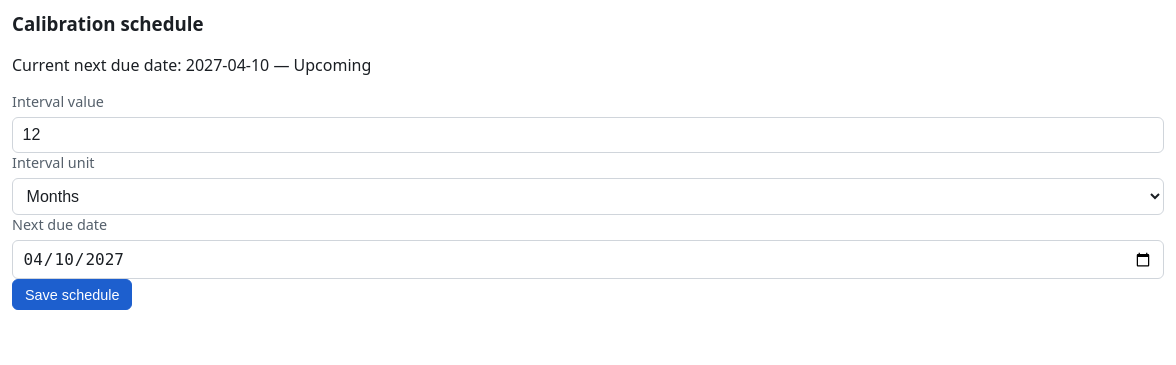
Test: CalibrationSchedulePanel › rejects clearing an existing due date rather than pretending to persist it
Expected: the text "2027-04-10" is shown, [186,54,269,76]
Clear the date field labelled "Next due date" at point(588, 260), box [12,240,1164,279]
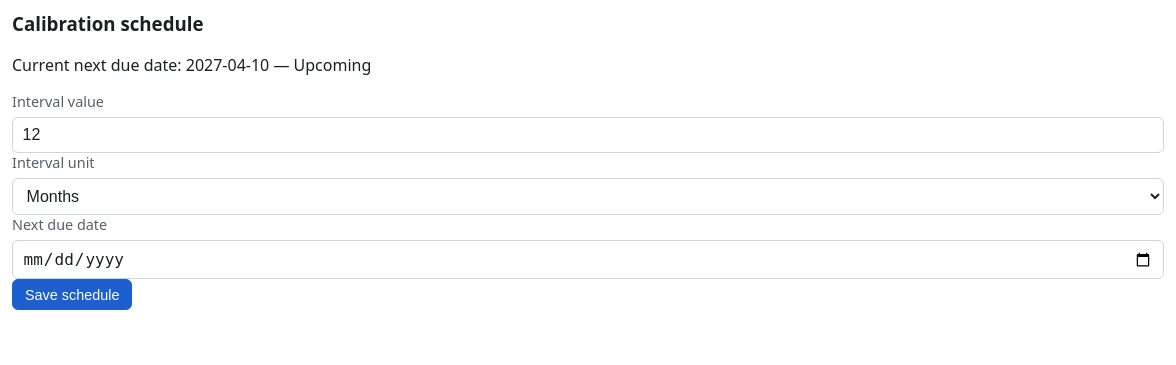
Click the button "Save schedule" at point(72, 295), box [12,279,132,310]
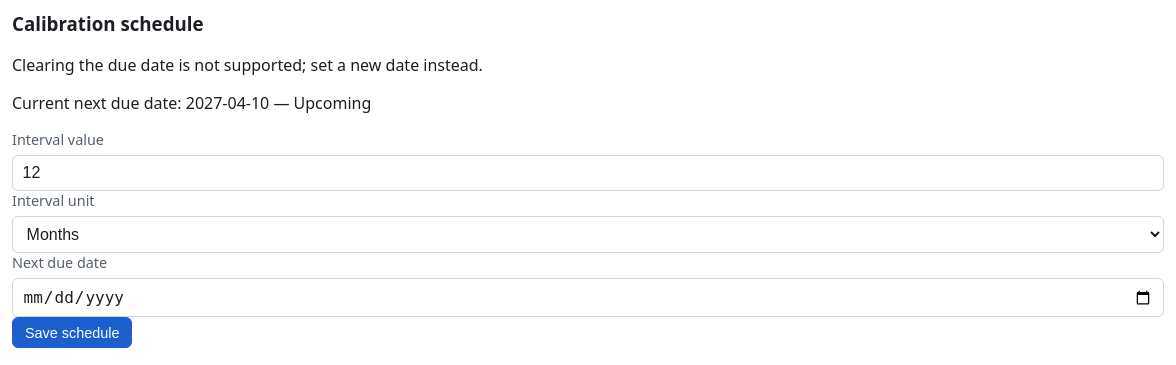
Result: the message reads "Clearing the due date is not supported; set a new date instead." at [12,54,483,76]
